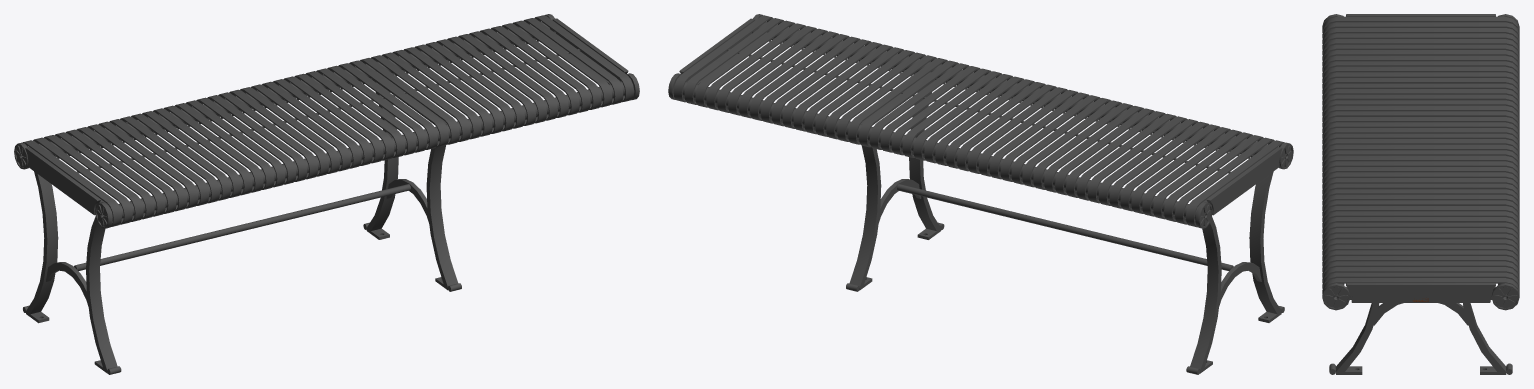
The picture shows the model from 3 angles, left to right: view 1: azimuth 30°, elevation 25°; view 2: azimuth 150°, elevation 25°; view 3: azimuth 270°, elevation 25°; orthographic projection. The views are drawn at different scales.
Parts seen in each view (by area): view 1: mesh1_mesh1-geometry, mesh30_mesh30-geometry, mesh25_mesh25-geometry, mesh31_mesh31-geometry, mesh42_mesh42-geometry, mesh15_mesh15-geometry, mesh28_mesh28-geometry, mesh3_mesh3-geometry; view 2: mesh1_mesh1-geometry, mesh31_mesh31-geometry, mesh25_mesh25-geometry, mesh30_mesh30-geometry, mesh42_mesh42-geometry, mesh15_mesh15-geometry, mesh28_mesh28-geometry, mesh3_mesh3-geometry; view 3: mesh1_mesh1-geometry, mesh15_mesh15-geometry, mesh3_mesh3-geometry, mesh30_mesh30-geometry, mesh31_mesh31-geometry, mesh28_mesh28-geometry.
Boxes of the visible parts, <box> form: mesh1_mesh1-geometry: <box>22,15,634,227</box>; mesh30_mesh30-geometry: <box>86,145,461,374</box>; mesh25_mesh25-geometry: <box>28,22,625,220</box>; mesh31_mesh31-geometry: <box>23,79,398,323</box>; mesh42_mesh42-geometry: <box>74,184,410,271</box>; mesh15_mesh15-geometry: <box>25,18,628,215</box>; mesh28_mesh28-geometry: <box>46,179,429,306</box>; mesh3_mesh3-geometry: <box>14,14,639,228</box>; mesh1_mesh1-geometry: <box>673,15,1284,227</box>; mesh31_mesh31-geometry: <box>846,145,1221,374</box>; mesh25_mesh25-geometry: <box>682,22,1279,220</box>; mesh30_mesh30-geometry: <box>909,80,1284,322</box>; mesh42_mesh42-geometry: <box>897,184,1233,270</box>; mesh15_mesh15-geometry: <box>679,18,1282,215</box>; mesh28_mesh28-geometry: <box>878,179,1261,305</box>; mesh3_mesh3-geometry: <box>668,14,1293,228</box>; mesh1_mesh1-geometry: <box>1322,16,1519,294</box>; mesh15_mesh15-geometry: <box>1346,14,1495,302</box>; mesh3_mesh3-geometry: <box>1322,14,1519,310</box>; mesh30_mesh30-geometry: <box>1329,303,1379,374</box>; mesh31_mesh31-geometry: <box>1463,303,1512,374</box>; mesh28_mesh28-geometry: <box>1373,303,1468,325</box>.
Bounding box in the file's own units: 0.9169 × 0.2821 × 0.2824.
